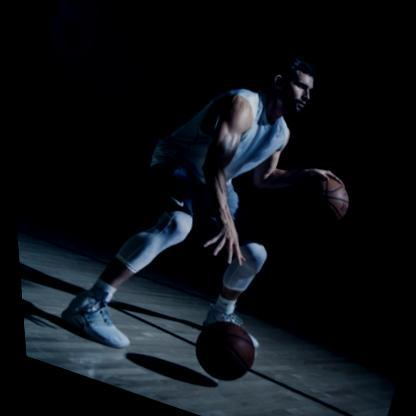basketball: (179, 312, 260, 389), (291, 171, 353, 230)
